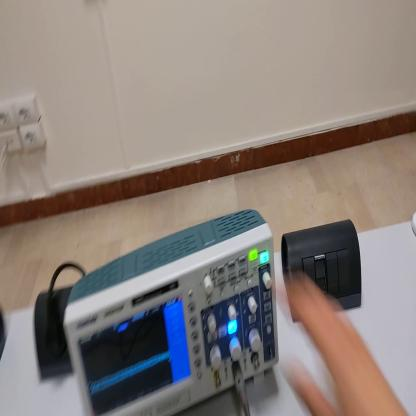hand: (279, 267, 408, 415)
oscilloscope: (59, 215, 278, 416)
socket: (36, 289, 74, 380), (2, 306, 10, 359)
